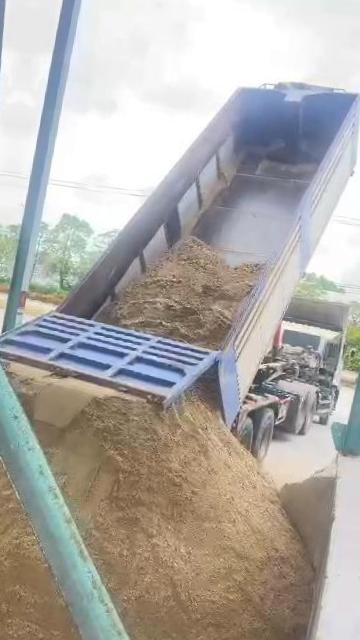sand: (35, 368, 311, 640), (0, 438, 92, 640), (107, 240, 256, 347), (11, 363, 114, 431), (281, 463, 334, 568)
